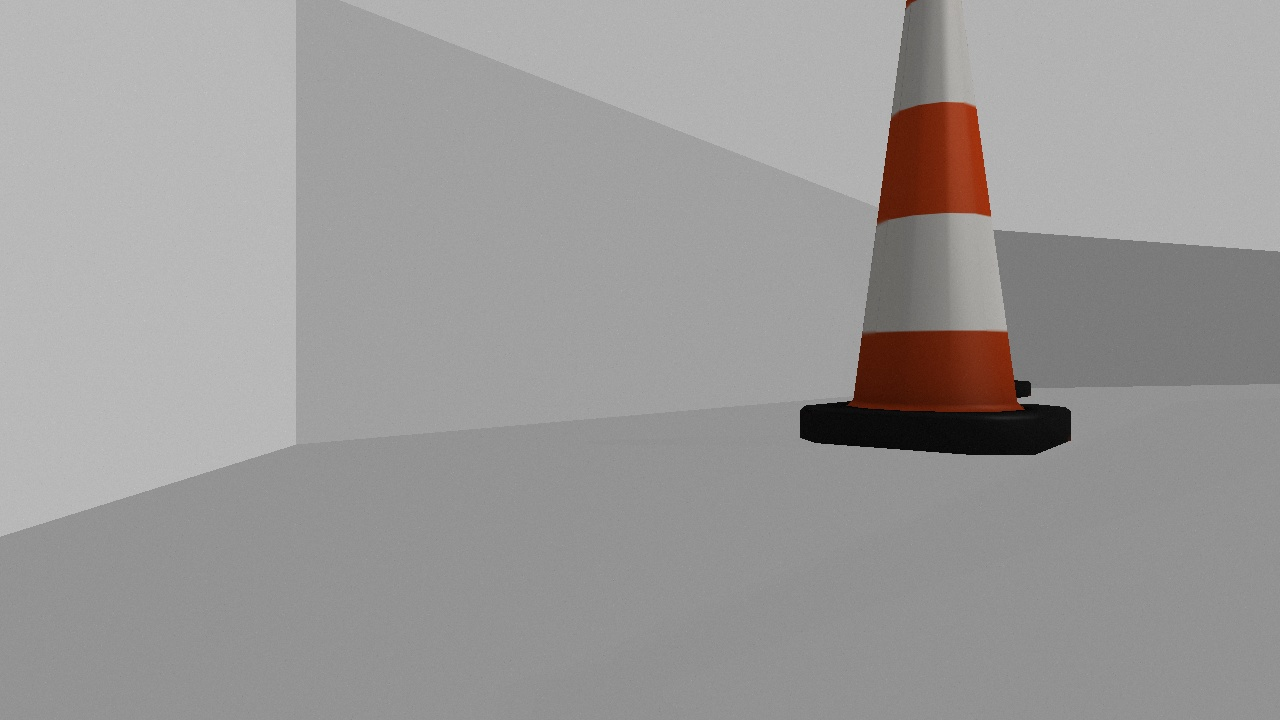barricade: (797, 1, 1074, 456)
